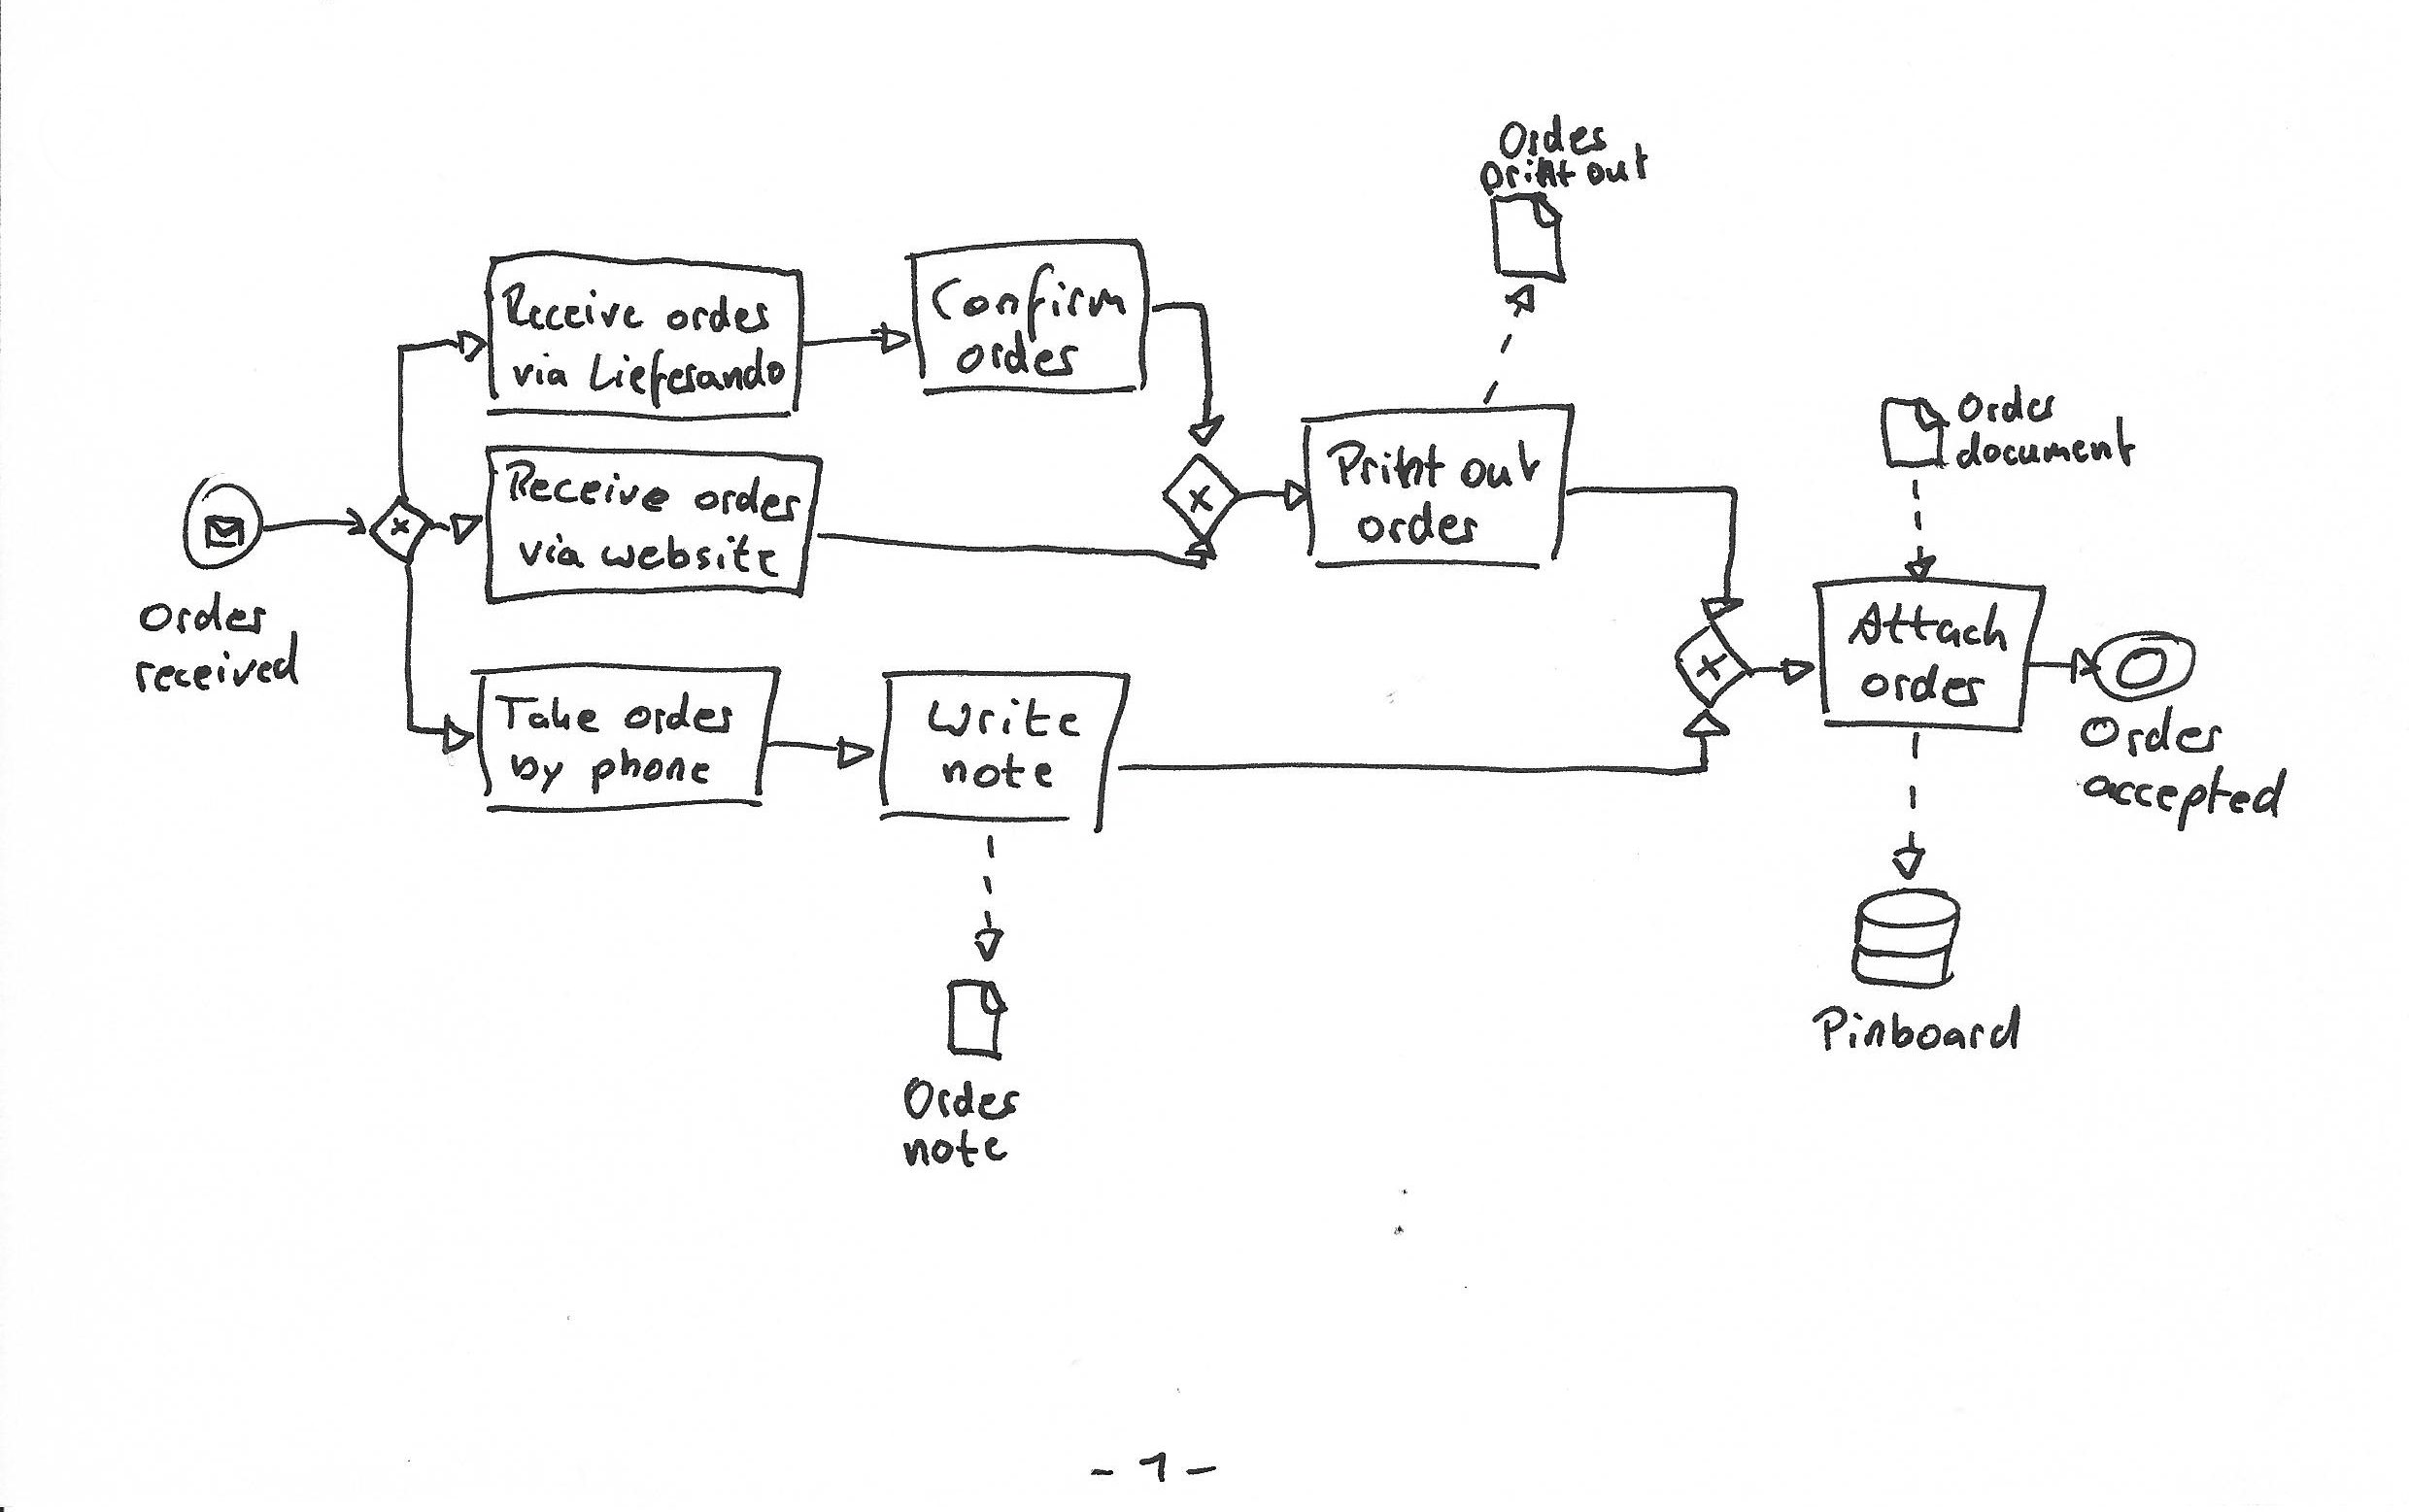Attach: (1848, 601, 2008, 653)
Confirm: (927, 261, 1127, 341)
Lieferando: (584, 345, 787, 409)
Order: (901, 1075, 1022, 1122)
Pinboard: (1810, 1005, 2026, 1057)
Print: (1327, 437, 1447, 493)
Receive: (505, 458, 674, 516), (498, 282, 646, 331)
Take: (493, 685, 604, 733)
accepted: (2078, 765, 2292, 833)
by: (507, 747, 568, 793)
document: (1953, 418, 2141, 472)
note: (939, 751, 1059, 793), (902, 1127, 1010, 1172)
order: (2078, 705, 2228, 759), (1857, 662, 1986, 712), (955, 327, 1082, 378), (136, 591, 267, 639), (1353, 500, 1484, 549), (688, 472, 801, 528), (1495, 111, 1611, 162), (622, 692, 735, 739), (665, 293, 773, 336), (1954, 383, 2061, 427)
out: (1458, 441, 1545, 493), (1585, 139, 1657, 190)
phone: (590, 746, 718, 793)
print: (1475, 155, 1582, 199)
received: (131, 631, 308, 702)
via: (516, 528, 592, 570), (510, 347, 577, 392)
website: (597, 530, 782, 578)
write: (923, 695, 1085, 746)
